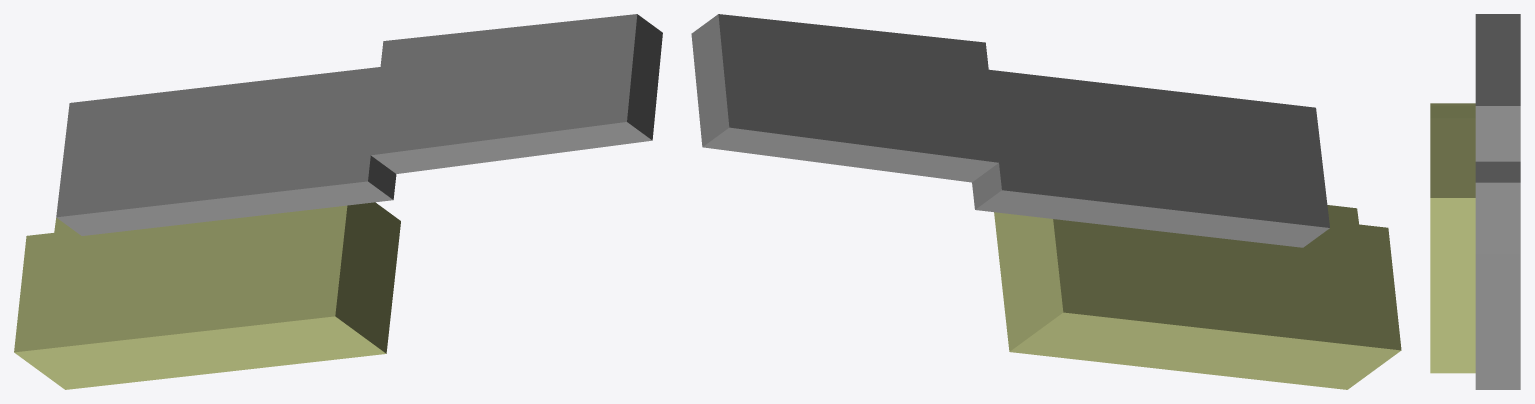
3 renders of one model, left to right at view 1: azimuth 30°, elevation 25°; view 2: azimuth 150°, elevation 25°; view 3: azimuth 270°, elevation 25°, orthographic. The views are drawn at different scales.
Visible parts, largest first — view 1: 0_3_0_2_1_1_1_3; view 2: 0_3_0_2_1_1_1_3; view 3: 0_3_0_2_1_1_1_3.
Boxes of the visible parts, <box> form: 0_3_0_2_1_1_1_3: <box>14,14,662,389</box>; 0_3_0_2_1_1_1_3: <box>691,14,1401,389</box>; 0_3_0_2_1_1_1_3: <box>1430,14,1520,389</box>.
Bounding box in the file's own units: 42.09 × 17.95 × 6.
